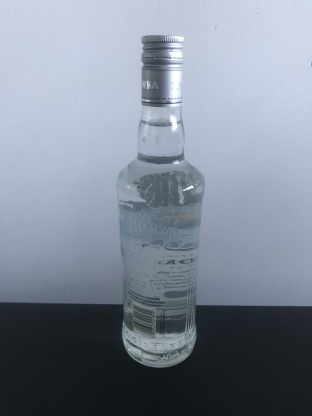nakretka: (139, 32, 184, 110)
